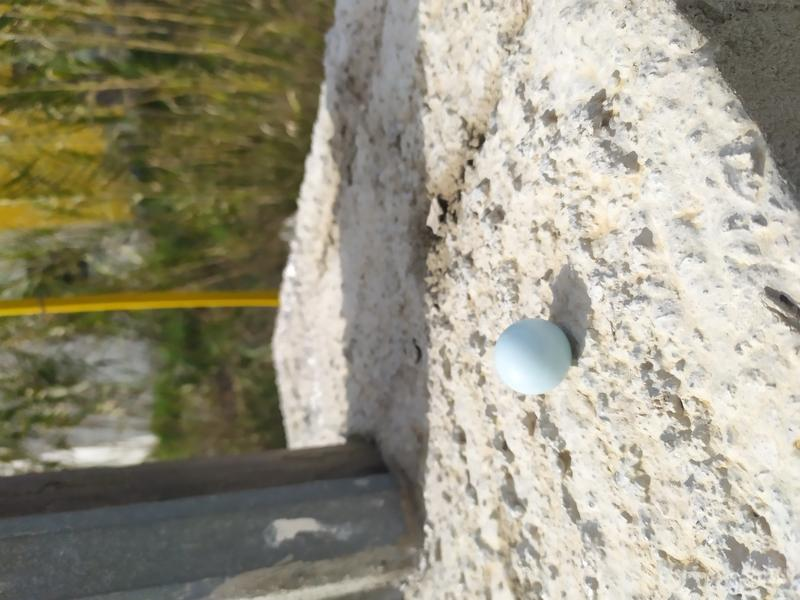Warning: (492, 314, 575, 398)
